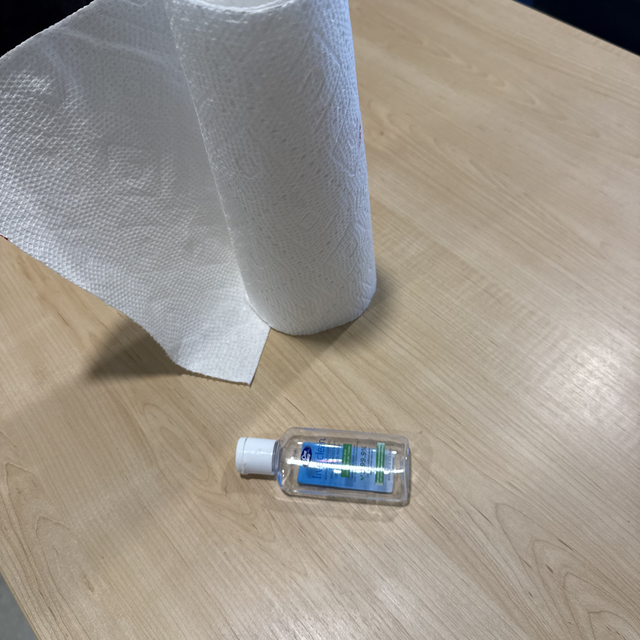Paper Towel: (4, 4, 388, 345)
Sanitizer: (210, 414, 444, 508)
